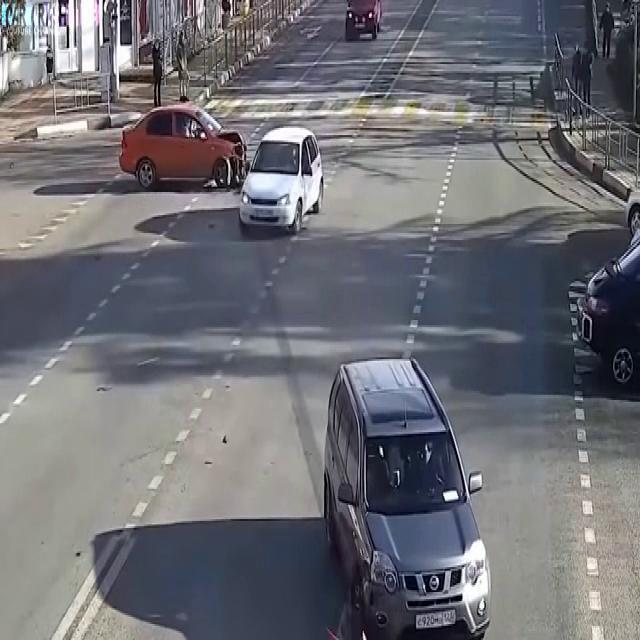accident: (116, 100, 494, 640), (116, 102, 324, 235)
